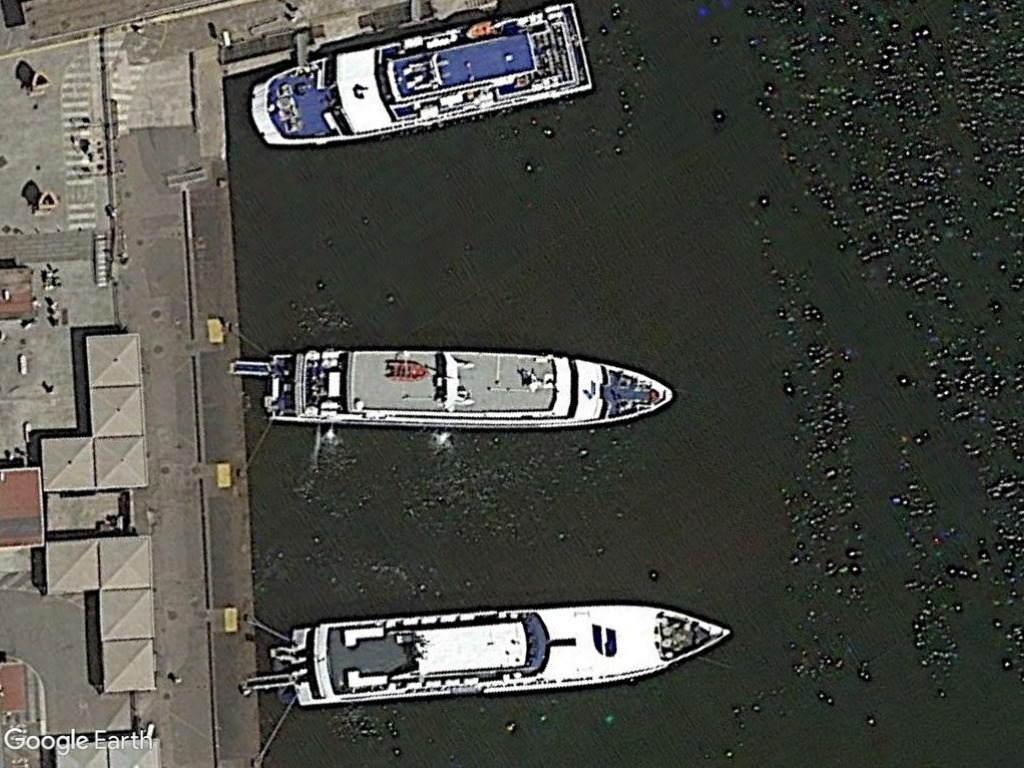boat: (267, 594, 739, 715), (239, 0, 603, 151), (259, 345, 678, 437)
